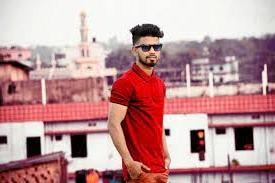Human: (104, 15, 180, 183)
